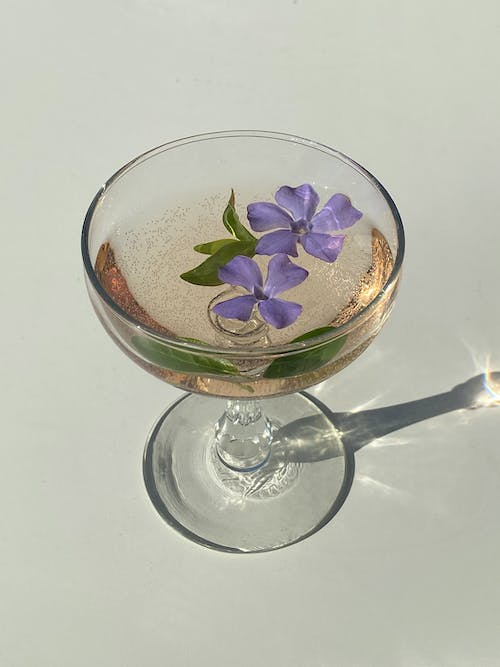alcohol: (79, 127, 407, 555)
